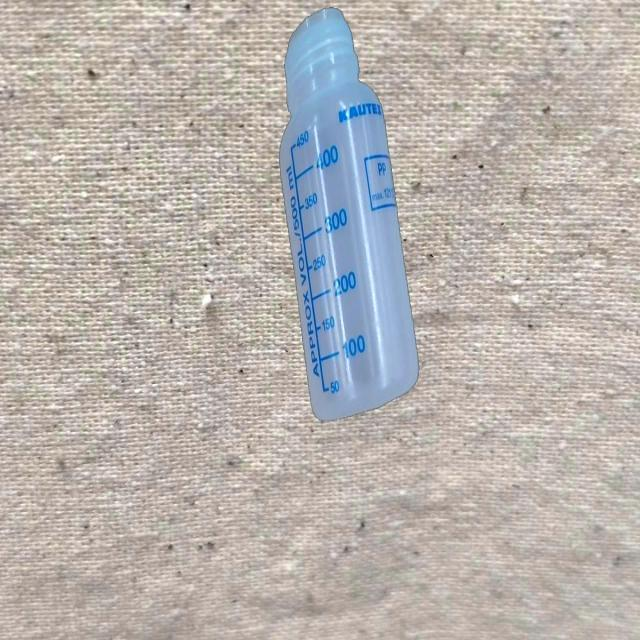bottle: (276, 4, 422, 427)
